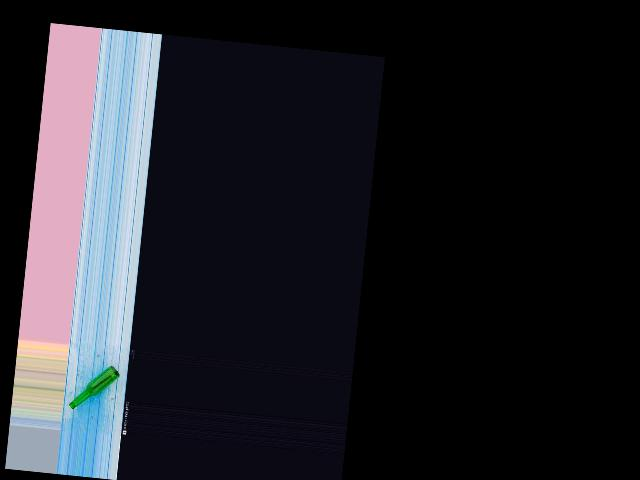beer: (69, 361, 121, 413)
